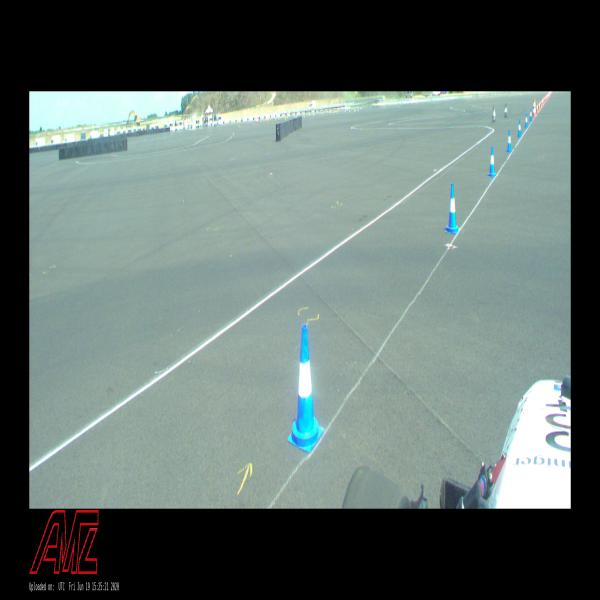blue_cone: (288, 325, 324, 453), (445, 184, 459, 233), (488, 146, 496, 176), (507, 130, 512, 152), (518, 120, 522, 137), (525, 114, 528, 128), (529, 109, 532, 121)
large_orange_cone: (533, 99, 536, 116), (535, 99, 537, 116)
orange_cone: (536, 103, 539, 113), (538, 101, 540, 110), (540, 99, 542, 108), (542, 98, 543, 106), (543, 97, 544, 104), (544, 96, 545, 102)
